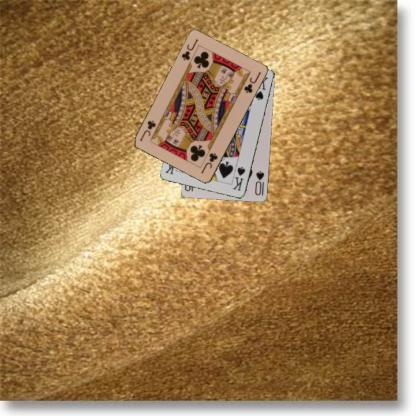10s: (253, 169, 265, 197)
Jc: (198, 150, 219, 175), (179, 36, 199, 62)
Ks: (230, 164, 247, 192)
